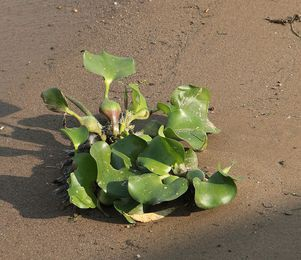water_hyacinth: (39, 43, 237, 227)
